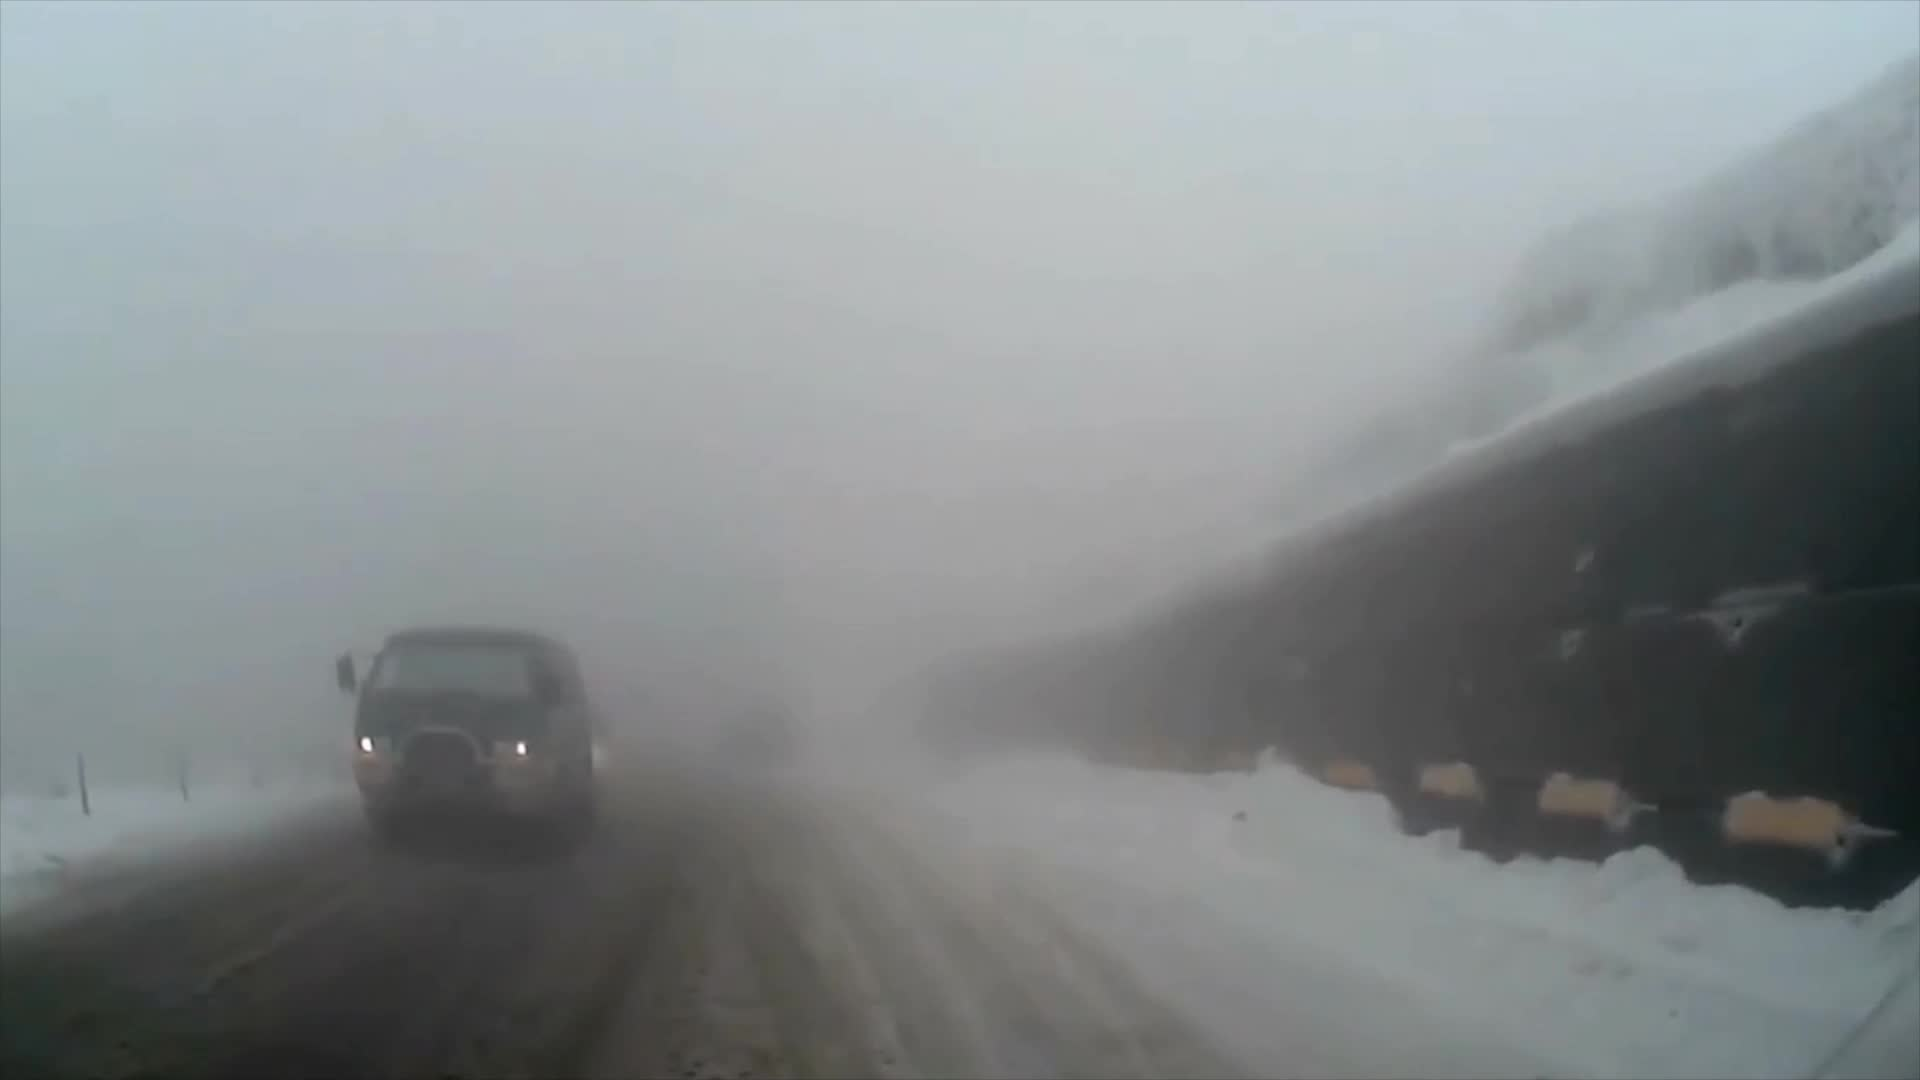vehicle: (330, 622, 597, 861)
